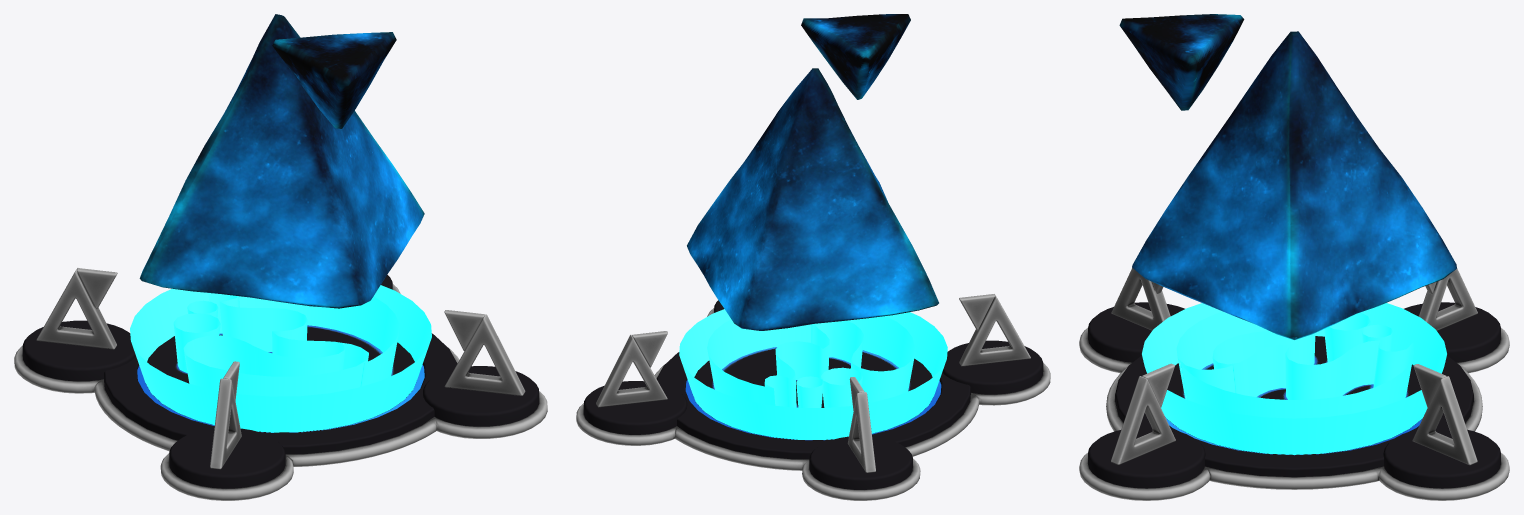
Rendered from gem.glb.
3 renders of one model, left to right at view 1: azimuth 30°, elevation 25°; view 2: azimuth 150°, elevation 25°; view 3: azimuth 270°, elevation 25°, orthographic. The views are drawn at different scales.
Visible parts, largest first — view 1: Gem01_low, Base_low, Glow, Gem02_low; view 2: Gem01_low, Base_low, Glow, Gem02_low; view 3: Gem01_low, Base_low, Glow, Gem02_low.
Boxes of the visible parts, x1=… form: Gem01_low: x1=139, y1=14, x2=424, y2=308; Base_low: x1=14, y1=268, x2=547, y2=500; Glow: x1=130, y1=285, x2=431, y2=432; Gem02_low: x1=272, y1=32, x2=396, y2=128; Gem01_low: x1=687, y1=68, x2=938, y2=330; Base_low: x1=576, y1=294, x2=1050, y2=500; Glow: x1=679, y1=309, x2=947, y2=439; Gem02_low: x1=801, y1=14, x2=910, y2=99; Gem01_low: x1=1132, y1=31, x2=1456, y2=339; Base_low: x1=1079, y1=268, x2=1509, y2=500; Glow: x1=1142, y1=303, x2=1446, y2=454; Gem02_low: x1=1119, y1=14, x2=1244, y2=110.
Size of the model in its own units: 2.81 by 2.76 by 2.81.
2 materials, 2 textured.
